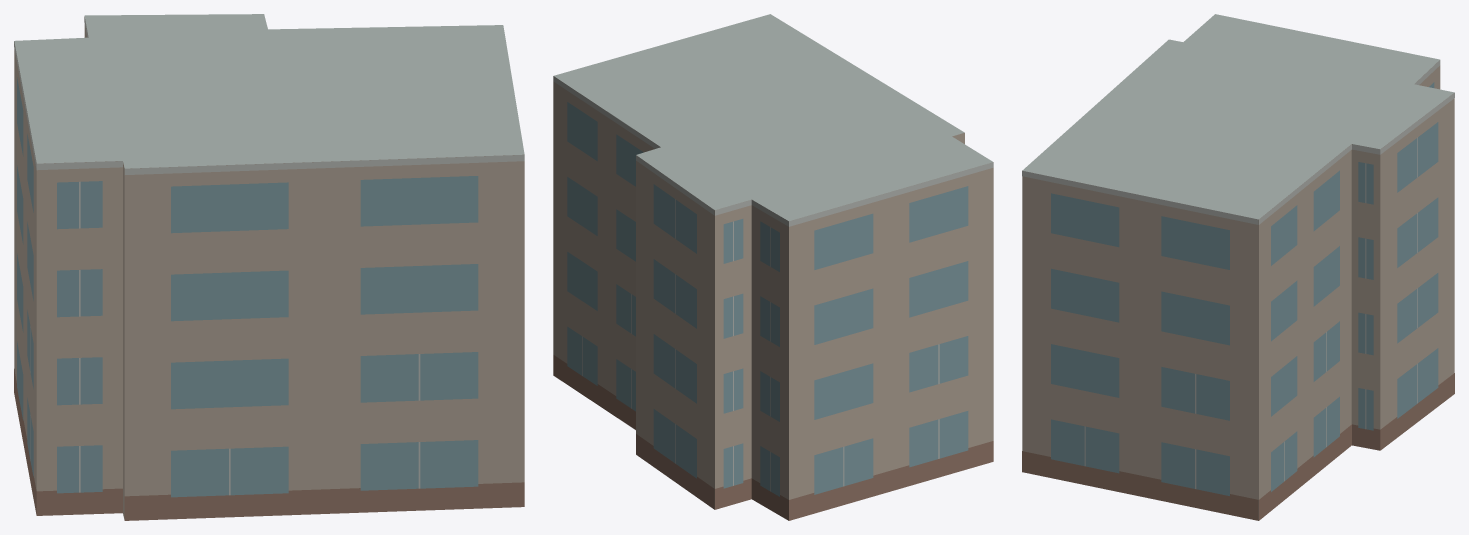
File: survey-upis-32931622.glb
3 renders of one model, left to right at view 1: azimuth 30°, elevation 25°; view 2: azimuth 150°, elevation 25°; view 3: azimuth 270°, elevation 25°, orthographic. The views are drawn at different scales.
Visible parts, largest first — view 1: survey-upis-32931622.tmp; view 2: survey-upis-32931622.tmp; view 3: survey-upis-32931622.tmp.
Part boxes in pixels (x1,y1,x2,y2): survey-upis-32931622.tmp: (14,14,524,520); survey-upis-32931622.tmp: (553,14,993,520); survey-upis-32931622.tmp: (1022,14,1454,520).
Size of the model in its own units: 19.31 by 13.2 by 17.18.
